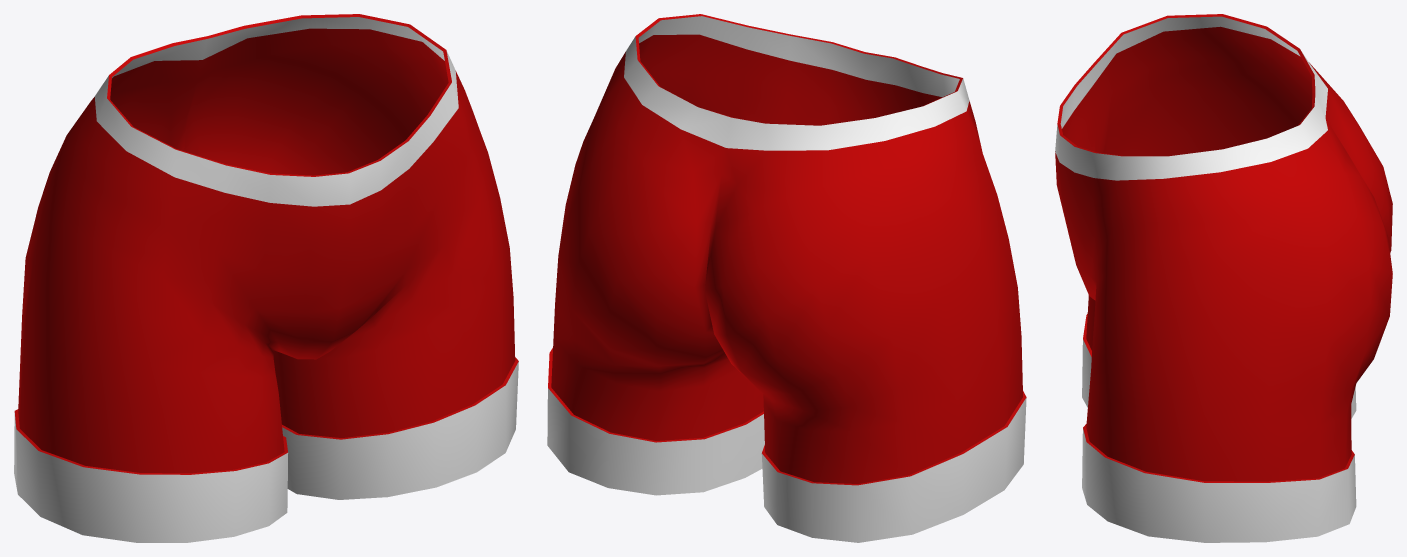
The picture shows the model from 3 angles, left to right: view 1: azimuth 30°, elevation 25°; view 2: azimuth 150°, elevation 25°; view 3: azimuth 270°, elevation 25°; orthographic projection. The views are drawn at different scales.
Parts seen in each view (by area): view 1: cgirl_Shorts; view 2: cgirl_Shorts; view 3: cgirl_Shorts.
Boxes of the visible parts, box(x1,y1,x2,y2) form: cgirl_Shorts: box(14, 14, 518, 542); cgirl_Shorts: box(547, 14, 1026, 542); cgirl_Shorts: box(1055, 14, 1392, 542).
Bounding box in the file's own units: 3625 × 3132 × 2517.
